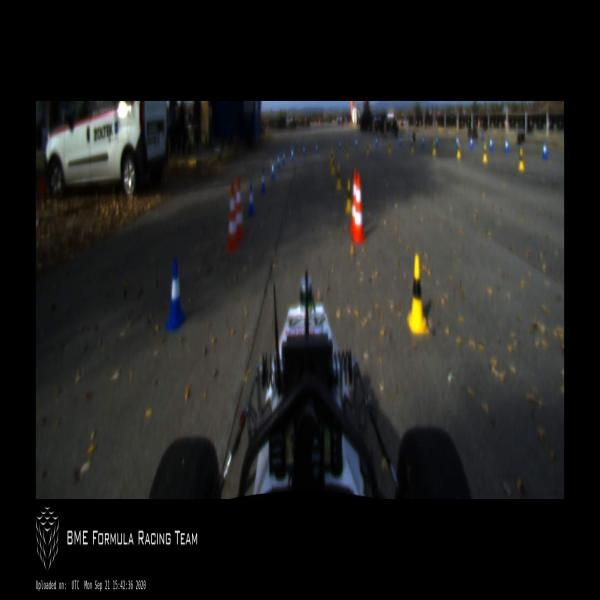blue_cone: (163, 258, 186, 332), (248, 183, 255, 218), (260, 169, 266, 195), (542, 140, 548, 160), (271, 159, 275, 180), (490, 134, 494, 152), (470, 133, 474, 150), (505, 137, 509, 151), (282, 150, 286, 164), (277, 152, 280, 170), (291, 146, 294, 162), (303, 142, 306, 158), (456, 135, 459, 151), (355, 136, 358, 150), (398, 132, 401, 146), (435, 135, 438, 148), (375, 136, 378, 147), (422, 136, 425, 147), (316, 142, 318, 154), (339, 138, 341, 150), (410, 136, 412, 146)
large_orange_cone: (353, 173, 366, 242), (225, 184, 238, 252), (236, 176, 245, 242), (349, 169, 357, 235)
yellow_cone: (406, 255, 428, 333), (345, 179, 351, 215), (335, 164, 342, 194), (518, 148, 524, 172), (482, 141, 488, 162), (344, 141, 350, 159), (456, 141, 461, 160), (331, 154, 335, 174), (432, 138, 436, 156), (366, 142, 370, 156), (388, 138, 391, 153), (411, 140, 414, 154), (330, 148, 332, 166)
